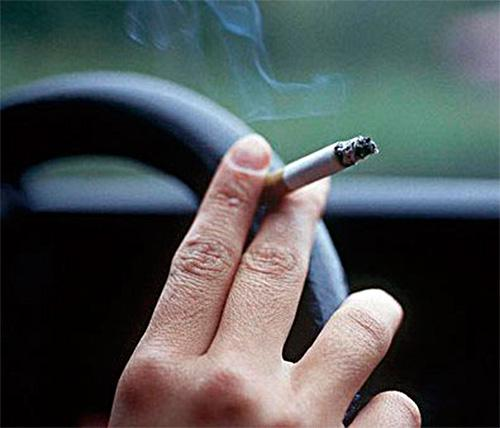Cigarette: (261, 136, 377, 203)
